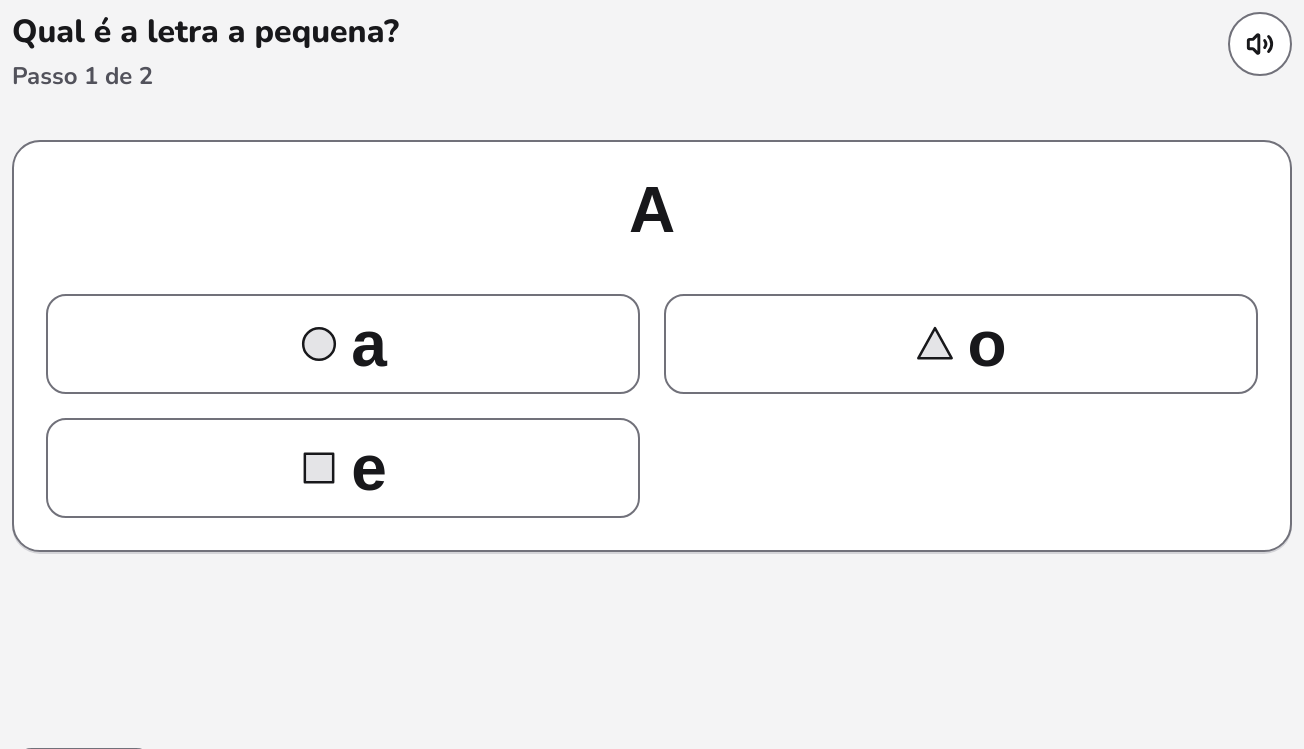
ActivityRunner — fluxo da criança › tema Foco Alto: sempre só formas, sem cor, mesmo se o professor escolheu cores
Click the button "o" at [935, 344], box [664, 294, 1258, 394]
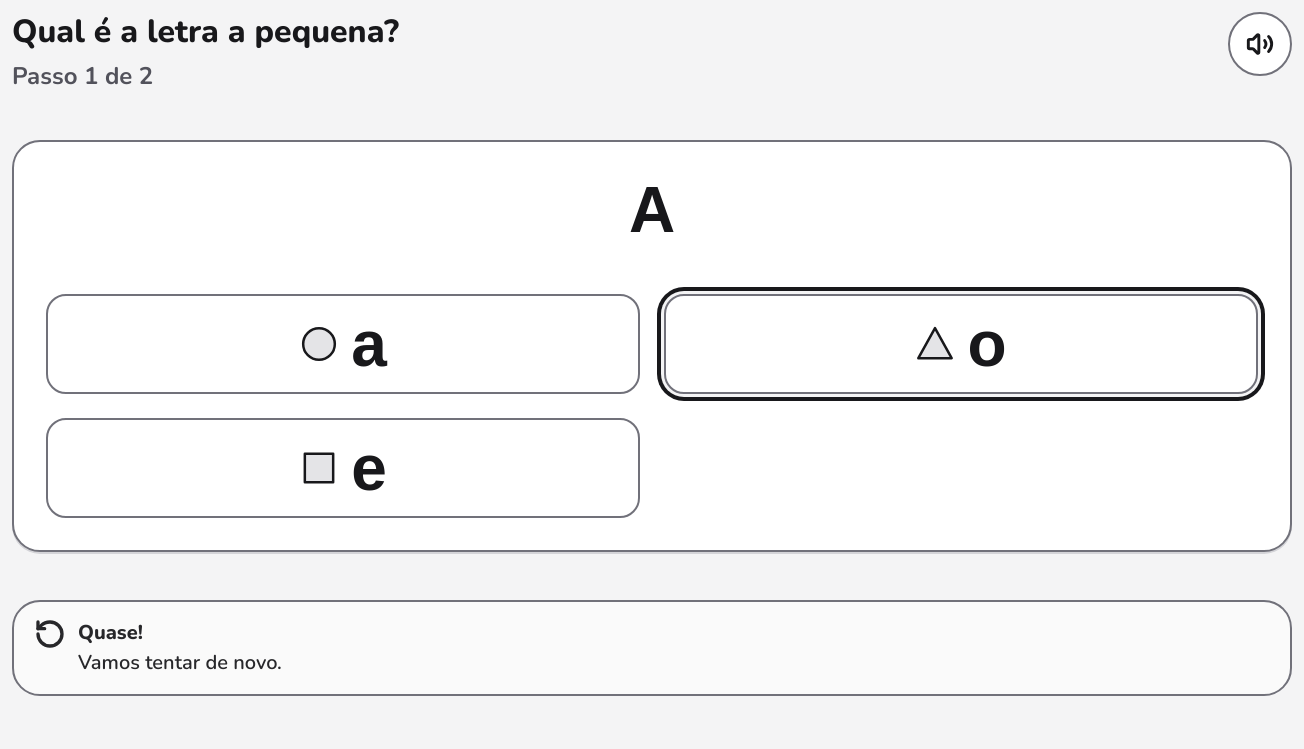
Click the button "e" at [319, 468], box [46, 418, 640, 518]
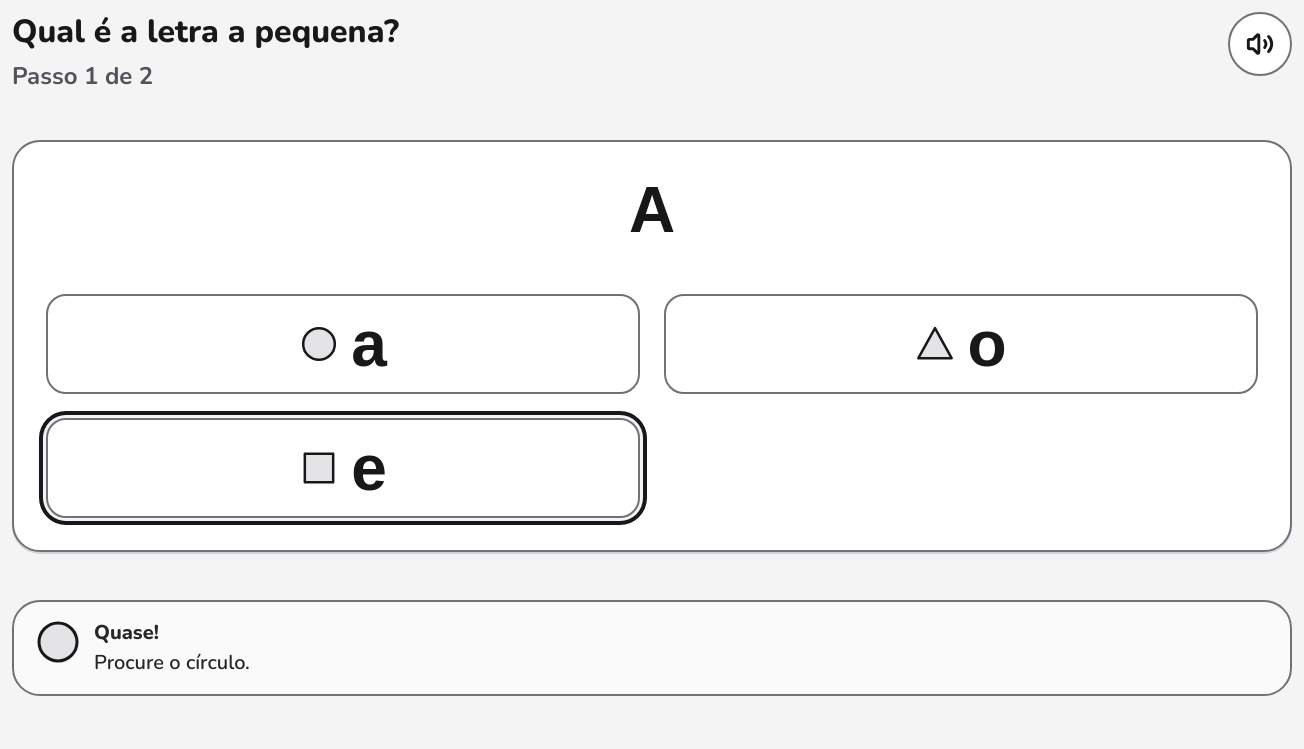
Now the message shows "Procure o círculo.", box [94, 649, 250, 676]
